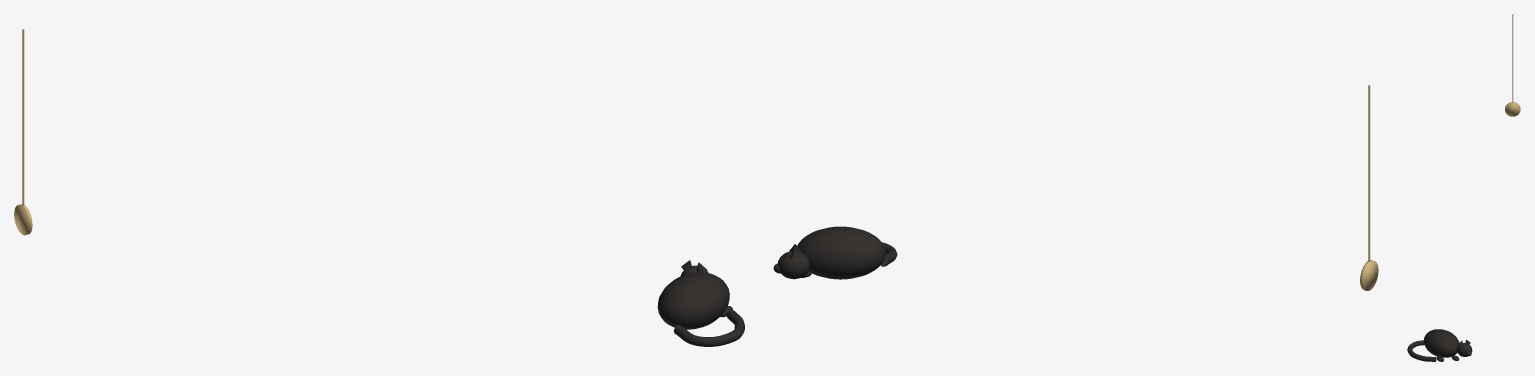
File: study_hover.glb
The picture shows the model from 3 angles, left to right: view 1: azimuth 30°, elevation 25°; view 2: azimuth 150°, elevation 25°; view 3: azimuth 270°, elevation 25°; orthographic projection. The views are drawn at different scales.
Parts seen in each view (by area): view 1: cat_body, cat_tail_curve; view 2: cat_body, cat_head_ball, clock_pendulum_rod; view 3: cat_body, cat_tail_curve, clock_pendulum_bob, clock_pendulum_rod, cat_head_ball.
Boxes of the visible parts, x1,y1,x2,y2 form: cat_body: (657,272,729,329); cat_tail_curve: (674,310,744,346); cat_body: (797,226,885,279); cat_head_ball: (778,251,809,279); clock_pendulum_rod: (1368,85,1370,261); cat_body: (1424,329,1459,357); cat_tail_curve: (1407,340,1436,361); clock_pendulum_bob: (1505,102,1520,116); clock_pendulum_rod: (1512,14,1513,102); cat_head_ball: (1457,343,1472,356).
Size of the model in its own units: 2.61 by 1.51 by 0.7979.
